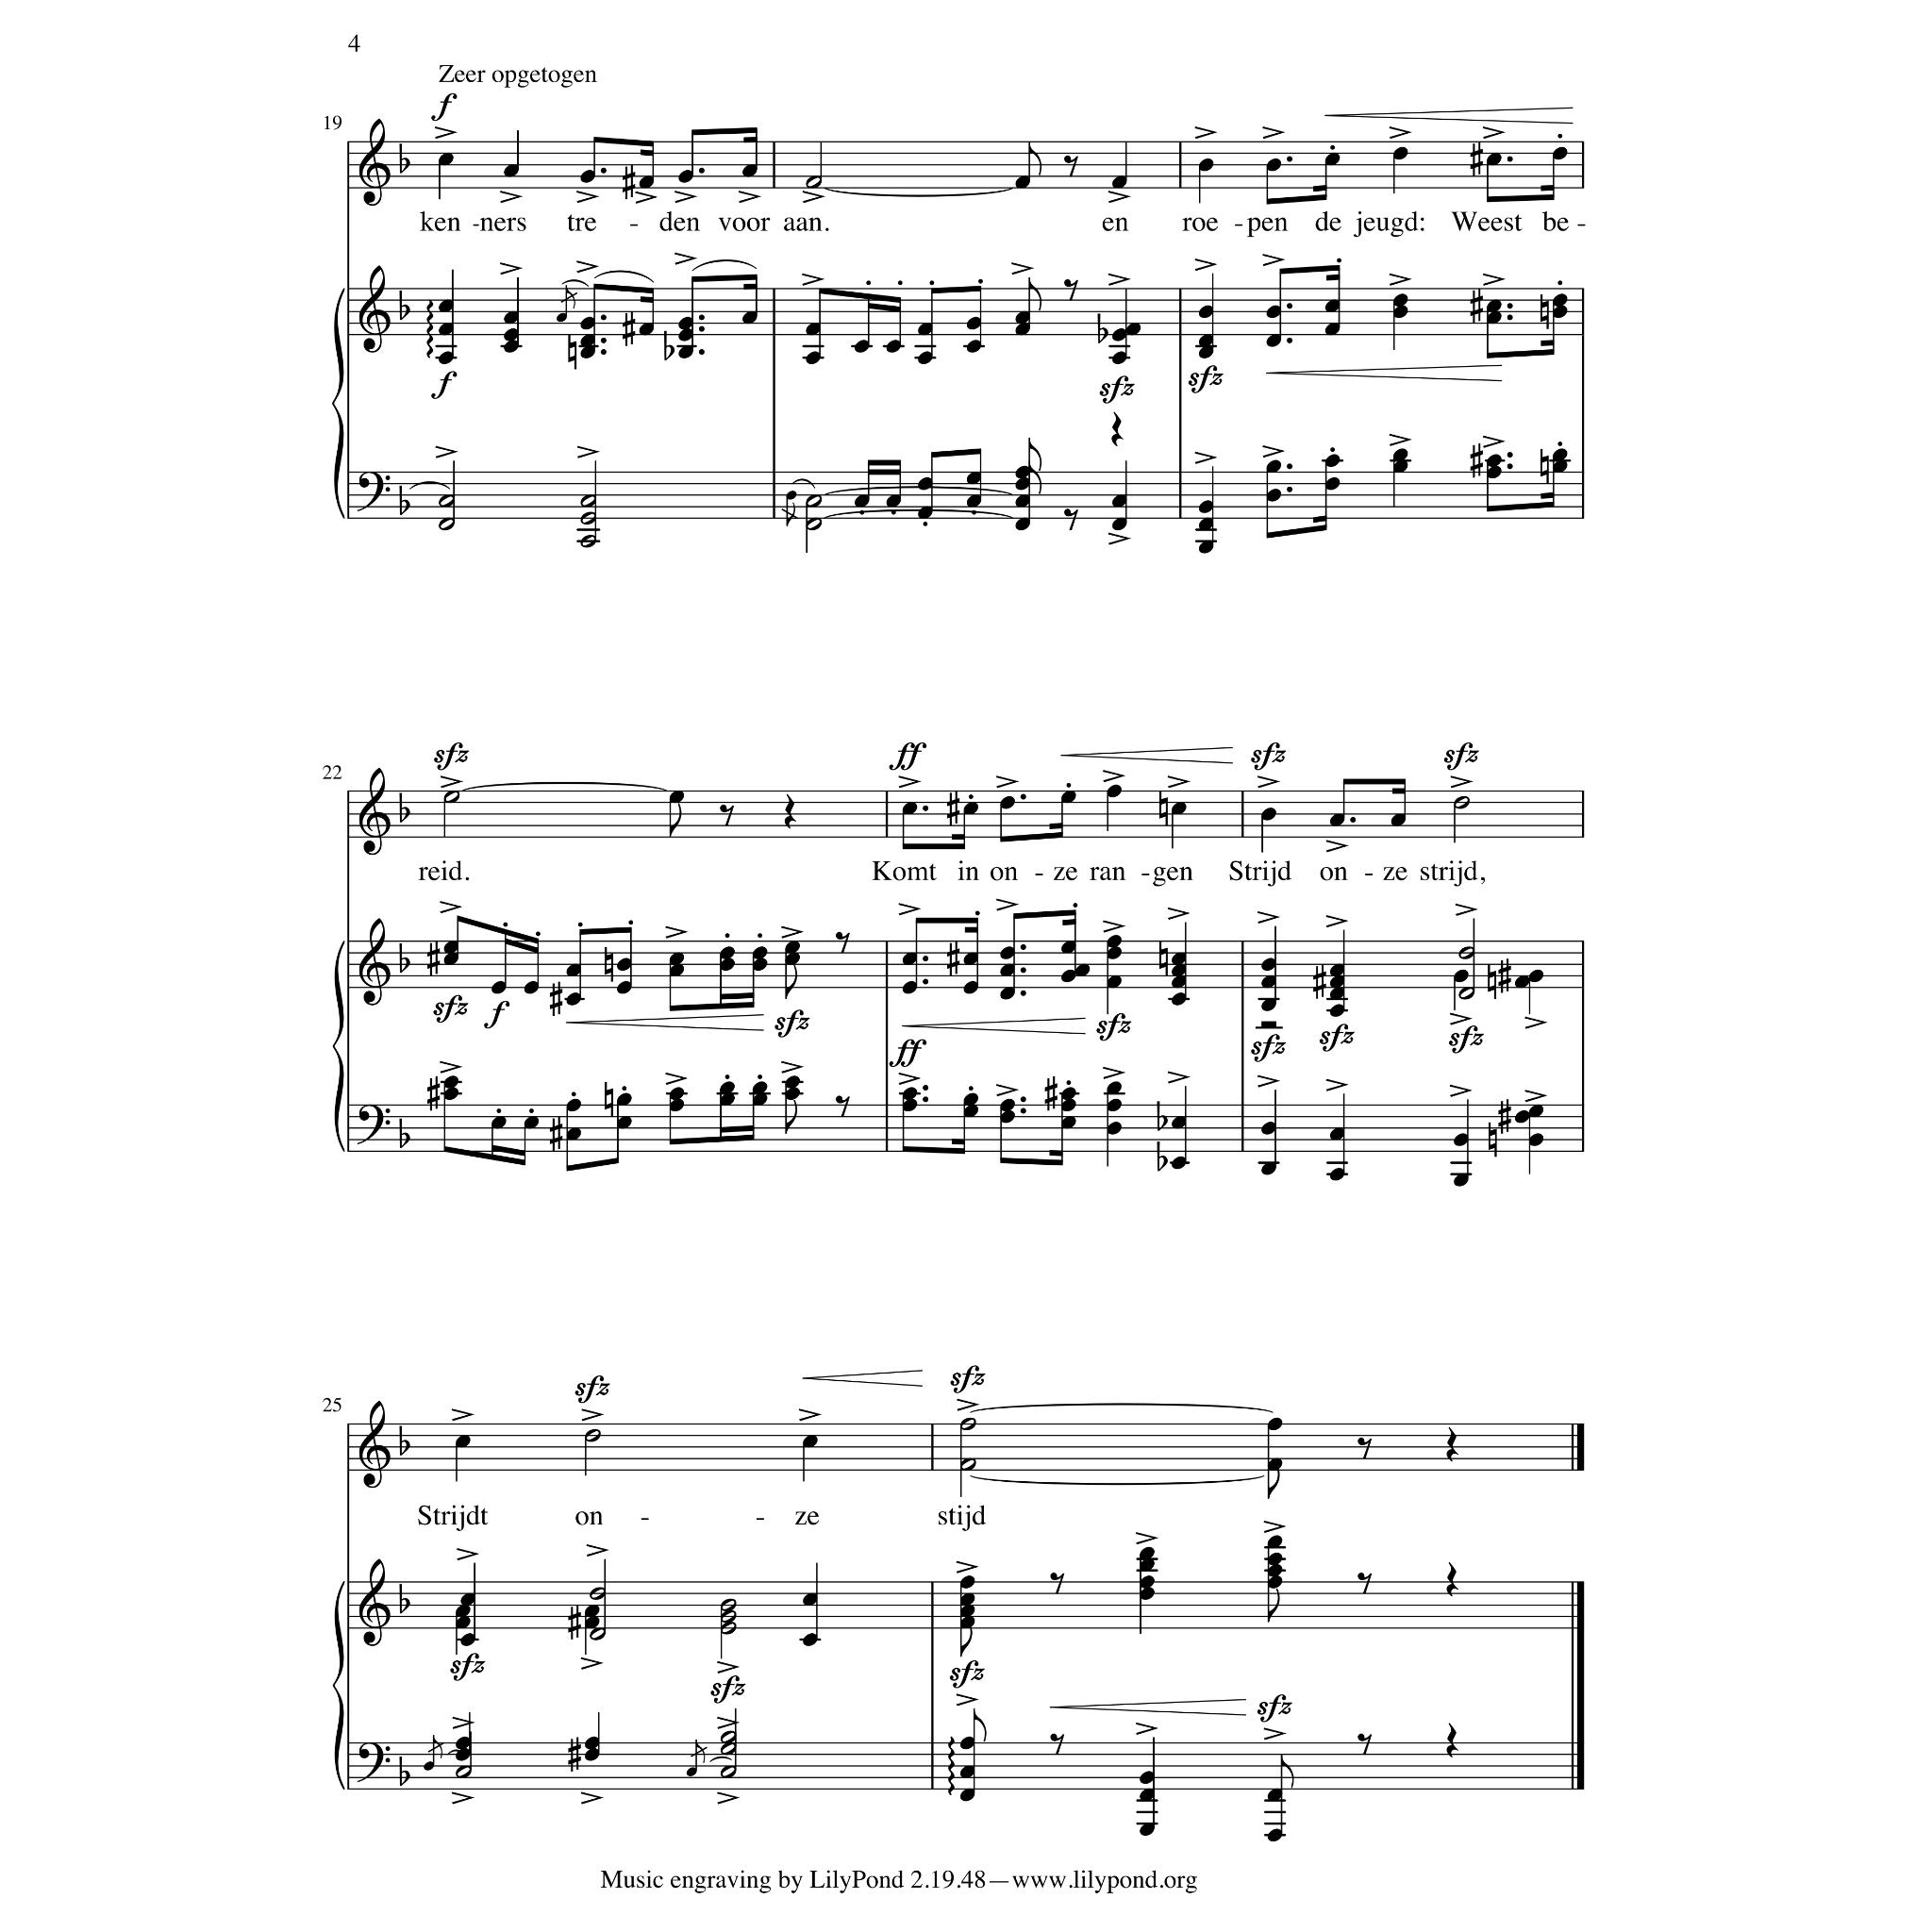brace: (331, 288, 345, 520), (333, 939, 345, 1152), (333, 1582, 345, 1790)
fClef: (357, 471, 391, 511), (357, 1104, 391, 1145), (357, 1743, 391, 1782)
flag8thDown: (780, 502, 798, 534), (669, 801, 681, 837), (786, 964, 798, 1000), (786, 1099, 798, 1134), (1267, 1465, 1279, 1500), (1267, 1589, 1279, 1622), (961, 1622, 971, 1658)
flag8thUp: (559, 280, 579, 310), (690, 1732, 708, 1764), (426, 1729, 444, 1759), (1028, 437, 1042, 472), (1028, 278, 1042, 311), (1028, 462, 1042, 495), (1028, 143, 1042, 177), (973, 1709, 987, 1743), (1281, 1755, 1293, 1789)
gClef: (359, 766, 391, 856), (359, 119, 391, 207), (359, 265, 391, 354), (359, 918, 391, 1007), (359, 1399, 391, 1488), (359, 1559, 391, 1647)
noteheadBlack: (1014, 322, 1031, 336), (1014, 494, 1031, 508), (1014, 465, 1031, 479), (901, 801, 918, 816), (901, 1099, 918, 1113), (901, 1086, 918, 1100), (801, 1592, 819, 1606), (1265, 157, 1281, 172), (1323, 152, 1339, 166), (1323, 322, 1339, 336), (1323, 453, 1339, 467), (1265, 488, 1281, 502), (1265, 460, 1281, 474), (1125, 322, 1141, 336), (1198, 157, 1214, 172), (1198, 345, 1214, 359), (1198, 540, 1214, 554), (1198, 501, 1214, 515), (1111, 494, 1127, 508), (1486, 152, 1502, 166), (1486, 465, 1502, 479), (1486, 453, 1502, 467), (1392, 147, 1408, 161), (1392, 294, 1408, 308), (1392, 460, 1408, 474), (1552, 147, 1568, 161), (1552, 294, 1568, 308), (1552, 460, 1568, 474), (580, 345, 596, 359), (580, 317, 596, 331), (678, 345, 694, 359), (678, 317, 694, 331), (639, 322, 655, 336), (437, 152, 453, 166), (437, 322, 453, 336), (885, 494, 901, 508), (885, 340, 901, 354), (918, 322, 934, 336), (918, 506, 934, 520), (853, 494, 869, 508), (966, 340, 982, 354), (853, 340, 869, 354), (966, 317, 982, 331), (966, 494, 982, 508), (966, 471, 982, 485), (805, 322, 821, 336), (1260, 1162, 1276, 1177), (1260, 807, 1276, 821), (1260, 998, 1276, 1012), (1260, 975, 1276, 989), (1260, 957, 1276, 971), (1000, 947, 1016, 961), (1000, 1099, 1016, 1113), (1106, 975, 1122, 989), (1106, 947, 1122, 961), (1106, 934, 1122, 948), (1062, 970, 1077, 984), (1062, 1099, 1077, 1113), (1062, 1086, 1077, 1100), (1106, 1099, 1122, 1113), (1529, 1132, 1545, 1146), (1514, 975, 1530, 989), (1529, 970, 1545, 984), (1529, 1104, 1545, 1118), (1329, 1003, 1345, 1017), (1329, 975, 1345, 989), (1329, 1168, 1345, 1182), (1329, 1127, 1345, 1141), (1453, 970, 1468, 984), (1453, 1173, 1468, 1187), (1453, 1132, 1468, 1146), (566, 1127, 582, 1141), (566, 1099, 582, 1113), (616, 957, 632, 971), (669, 1099, 685, 1113), (669, 1086, 685, 1100), (442, 1086, 458, 1100), (962, 1104, 978, 1118), (962, 801, 978, 816), (752, 957, 768, 971), (752, 947, 768, 961), (784, 1086, 800, 1100), (1138, 1587, 1154, 1601), (1267, 1564, 1283, 1578), (1267, 1575, 1283, 1589), (1267, 1417, 1283, 1431), (1267, 1458, 1283, 1472), (1138, 1575, 1154, 1589), (1138, 1822, 1154, 1836), (1138, 1546, 1154, 1560), (1138, 1559, 1154, 1573), (959, 1736, 975, 1750), (959, 1764, 975, 1778), (959, 1575, 975, 1589), (959, 1592, 975, 1606), (959, 1615, 975, 1629), (1267, 1828, 1283, 1842), (455, 1736, 471, 1750), (455, 1615, 471, 1629), (460, 1592, 476, 1606), (584, 1736, 600, 1750), (584, 1615, 600, 1629), (1014, 177, 1031, 189), (1014, 311, 1031, 324), (1014, 518, 1031, 531), (1014, 478, 1031, 490), (901, 954, 918, 966), (901, 982, 918, 994), (801, 1633, 819, 1645), (801, 1435, 819, 1447), (504, 340, 518, 354), (1171, 801, 1185, 816), (1171, 975, 1185, 989), (720, 957, 734, 971), (720, 947, 734, 961), (1265, 306, 1281, 318), (1265, 334, 1281, 347), (1323, 301, 1339, 313), (1323, 478, 1339, 490), (1111, 177, 1127, 189), (1111, 352, 1127, 364), (1111, 329, 1127, 341), (1111, 518, 1127, 531), (1198, 334, 1214, 347), (1198, 306, 1214, 318), (1198, 518, 1214, 531), (1486, 311, 1502, 324), (1486, 301, 1502, 313), (1392, 306, 1408, 318), (1392, 449, 1408, 462), (1552, 306, 1568, 318), (1552, 449, 1568, 462), (580, 170, 596, 182), (580, 334, 596, 347), (678, 170, 694, 182), (678, 329, 694, 341), (639, 177, 655, 189), (437, 352, 453, 364), (437, 301, 453, 313), (918, 352, 934, 364), (918, 478, 934, 490), (741, 165, 757, 177), (741, 311, 757, 324), (805, 352, 821, 364), (1106, 1083, 1122, 1095), (1106, 1122, 1122, 1134), (1260, 1122, 1276, 1134), (1062, 791, 1077, 803), (1000, 796, 1016, 809), (1000, 987, 1016, 1000), (1000, 964, 1016, 977), (1000, 1111, 1016, 1123), (1106, 786, 1122, 798), (1074, 964, 1090, 977), (1062, 941, 1077, 954), (1062, 1116, 1077, 1129), (1514, 1111, 1530, 1123), (1329, 987, 1345, 1000), (1329, 964, 1345, 977), (1329, 814, 1345, 826), (1391, 814, 1407, 826), (616, 982, 632, 994), (524, 982, 540, 994), (524, 1116, 540, 1129), (566, 993, 582, 1005), (566, 964, 582, 977), (669, 791, 685, 803), (669, 964, 685, 977), (669, 954, 685, 966), (616, 1116, 632, 1129), (616, 1093, 632, 1106), (492, 982, 508, 994), (492, 1116, 508, 1129), (442, 954, 458, 966), (442, 941, 458, 954), (442, 1076, 458, 1088), (962, 1093, 978, 1106), (962, 982, 978, 994), (962, 954, 978, 966), (752, 1093, 768, 1106), (752, 1083, 768, 1095), (784, 941, 800, 954), (784, 1076, 800, 1088), (784, 954, 800, 966), (1267, 1536, 1283, 1548), (1267, 1553, 1283, 1566), (1138, 1771, 1154, 1783), (1138, 1789, 1154, 1801), (959, 1789, 975, 1801), (959, 1605, 975, 1617), (1267, 1789, 1283, 1801), (455, 1748, 471, 1760), (455, 1605, 471, 1617), (460, 1633, 476, 1645), (455, 1435, 471, 1447), (584, 1748, 600, 1760), (584, 1605, 600, 1617), (504, 165, 518, 177), (504, 329, 518, 341), (504, 311, 518, 324), (1171, 954, 1185, 966), (1171, 1157, 1185, 1169), (1171, 1116, 1185, 1129), (1171, 964, 1185, 977), (1171, 993, 1185, 1005), (720, 1093, 734, 1106), (720, 1083, 734, 1095), (786, 490, 798, 501), (556, 313, 566, 324), (423, 1760, 433, 1771), (686, 1766, 697, 1776)
noteheadHalf: (579, 534, 596, 548), (579, 511, 596, 525), (579, 494, 596, 508), (437, 494, 455, 508), (959, 1417, 977, 1431), (959, 1458, 977, 1472), (805, 494, 821, 508), (1458, 947, 1474, 961), (589, 1587, 605, 1601), (589, 1628, 605, 1642), (720, 1730, 736, 1744), (720, 1598, 736, 1612), (720, 1610, 736, 1624), (437, 518, 455, 531), (1453, 796, 1470, 809), (455, 1766, 472, 1778), (584, 1430, 602, 1442), (805, 518, 821, 531), (805, 177, 821, 189), (1458, 987, 1474, 1000), (444, 791, 460, 803), (720, 1743, 736, 1755), (720, 1766, 736, 1778), (720, 1622, 736, 1635)
rest8th: (718, 805, 734, 828), (1049, 1732, 1065, 1755), (1049, 1573, 1065, 1596), (1063, 156, 1077, 179), (1063, 280, 1077, 303), (1063, 508, 1077, 531), (835, 931, 849, 954), (835, 1095, 849, 1118), (1357, 1573, 1371, 1596), (1357, 1732, 1371, 1755), (1357, 1438, 1371, 1460)
restHalf: (1254, 1021, 1283, 1030)
restQuarter: (784, 793, 798, 830), (1111, 410, 1123, 448), (1445, 1560, 1458, 1598), (1445, 1723, 1458, 1759), (1445, 1426, 1458, 1461)
